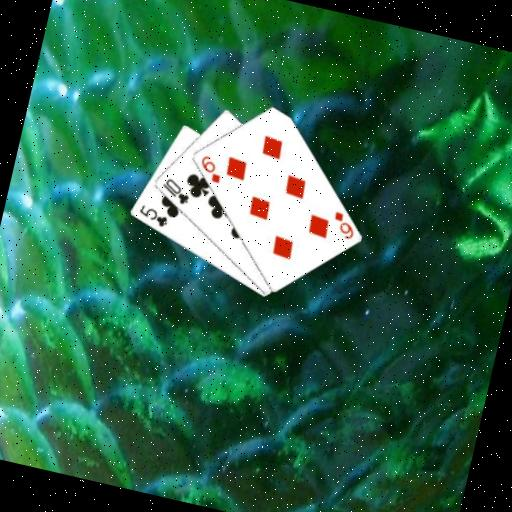10C: (156, 174, 194, 208)
5C: (134, 201, 172, 230)
6D: (194, 152, 227, 186), (327, 208, 360, 242)
